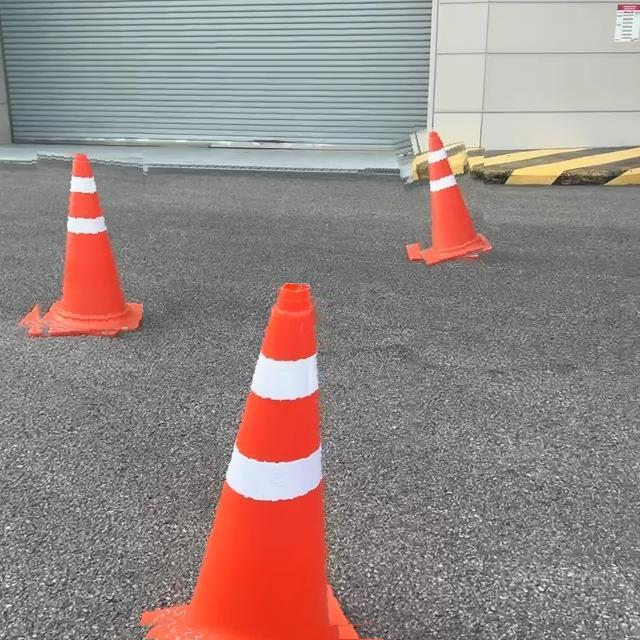fallen_object: (43, 264, 405, 640), (0, 112, 168, 346), (357, 117, 506, 287)
